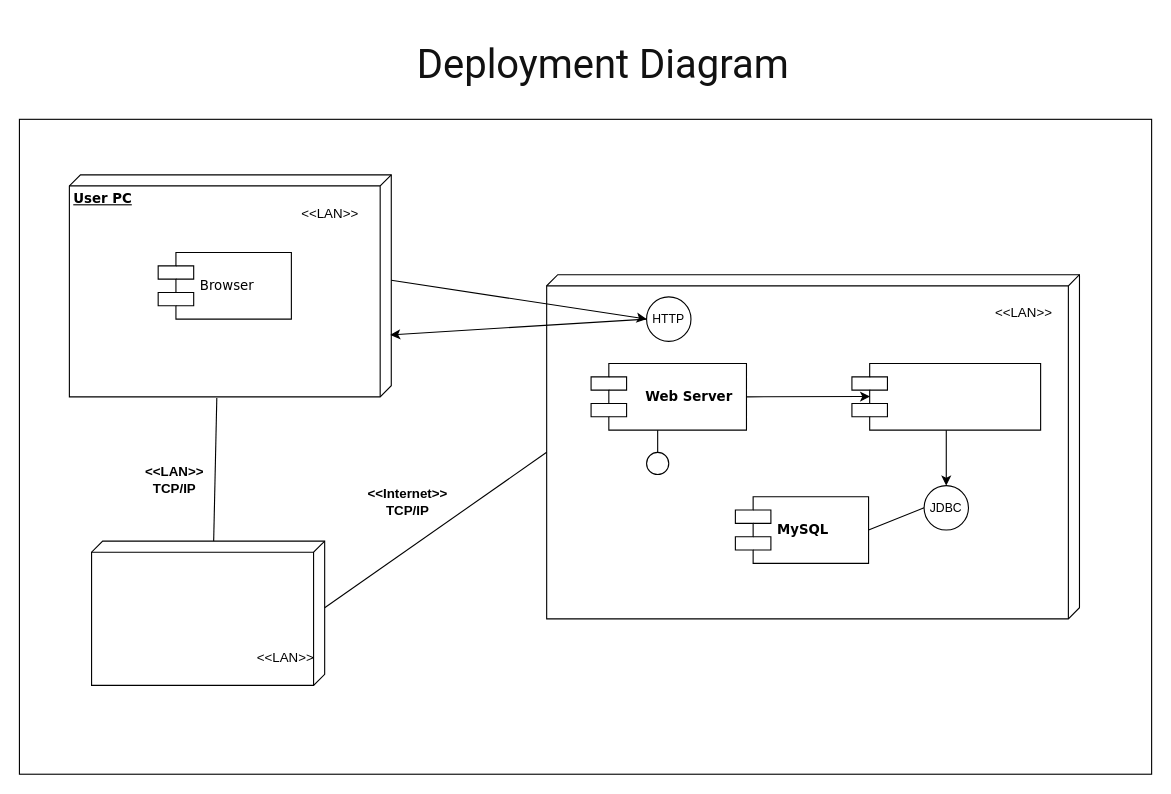
The diagram is 1171 pixels wide and 794 high, and some of its shapes have lost their labels. The box of each missing label's shape, as (x1, y1, x2, y2) in pixels:
Application Server: (851, 362, 1041, 430)
ISP/PROXY: (90, 540, 325, 685)
Tender Management System: (546, 274, 1079, 619)
